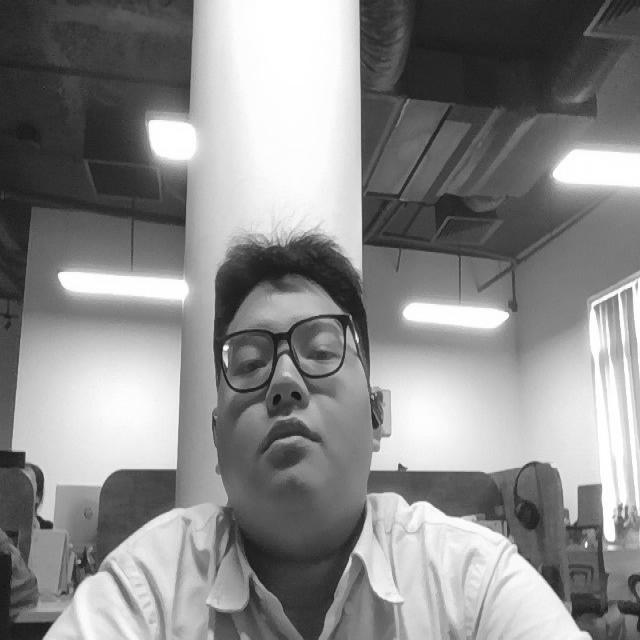real: (191, 202, 400, 572), (220, 331, 363, 386)
